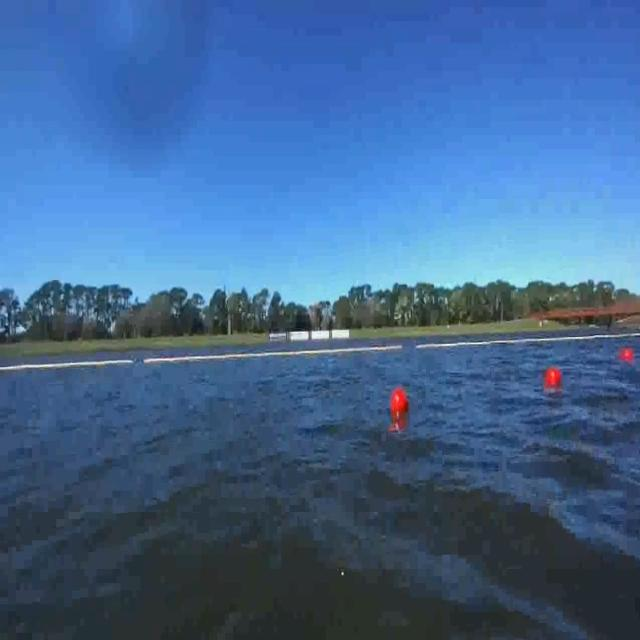red-buoy: (390, 387, 408, 417), (547, 366, 564, 386), (622, 348, 635, 364)
